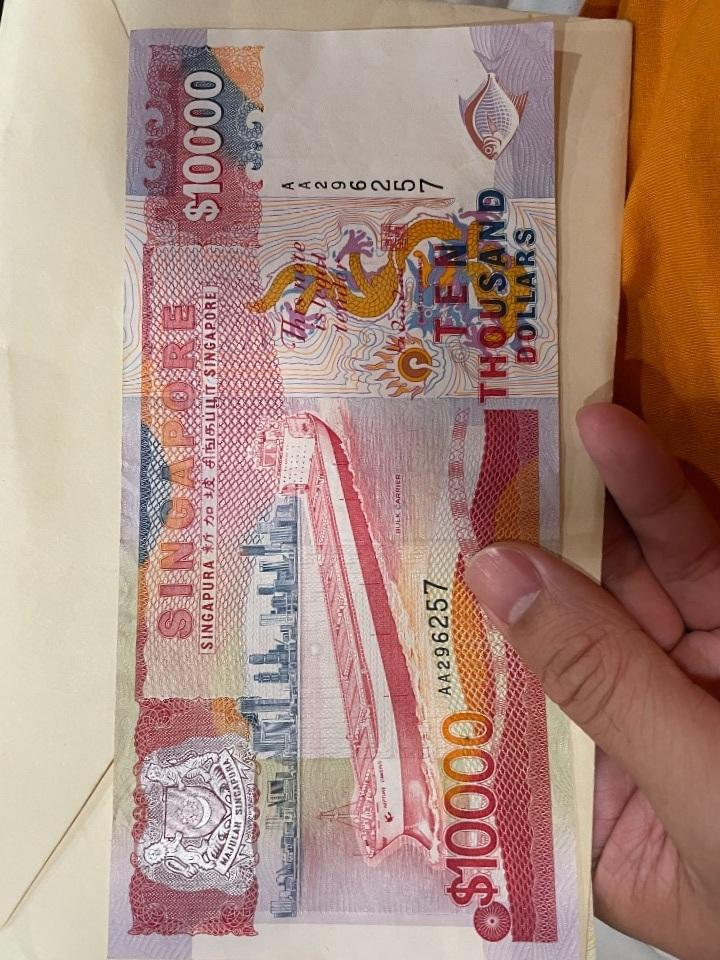10000SingaporeDollar: (120, 33, 562, 952)
